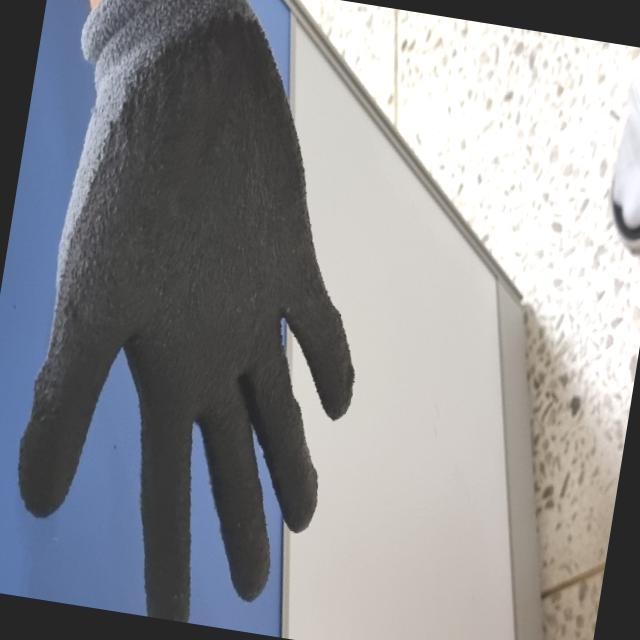Gloves: (17, 1, 363, 640)
